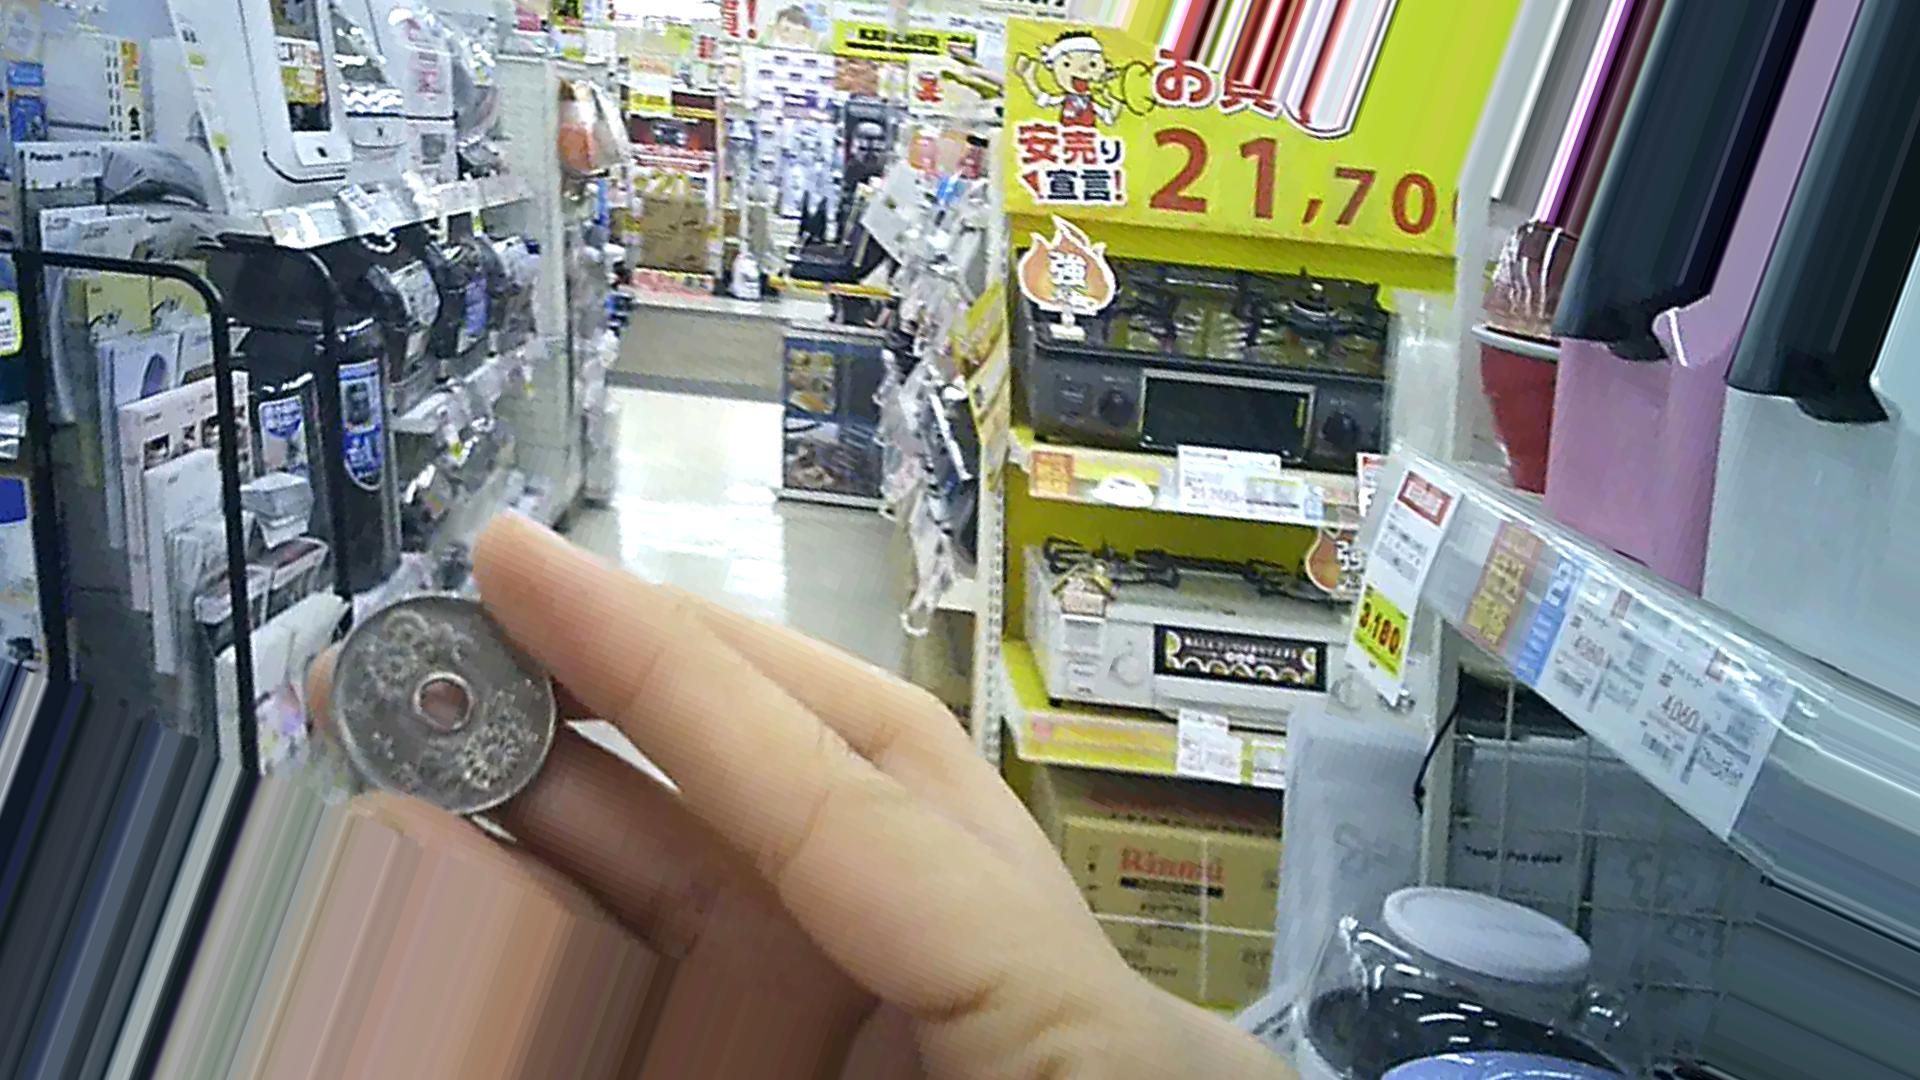50 Yen: (315, 589, 560, 822)
